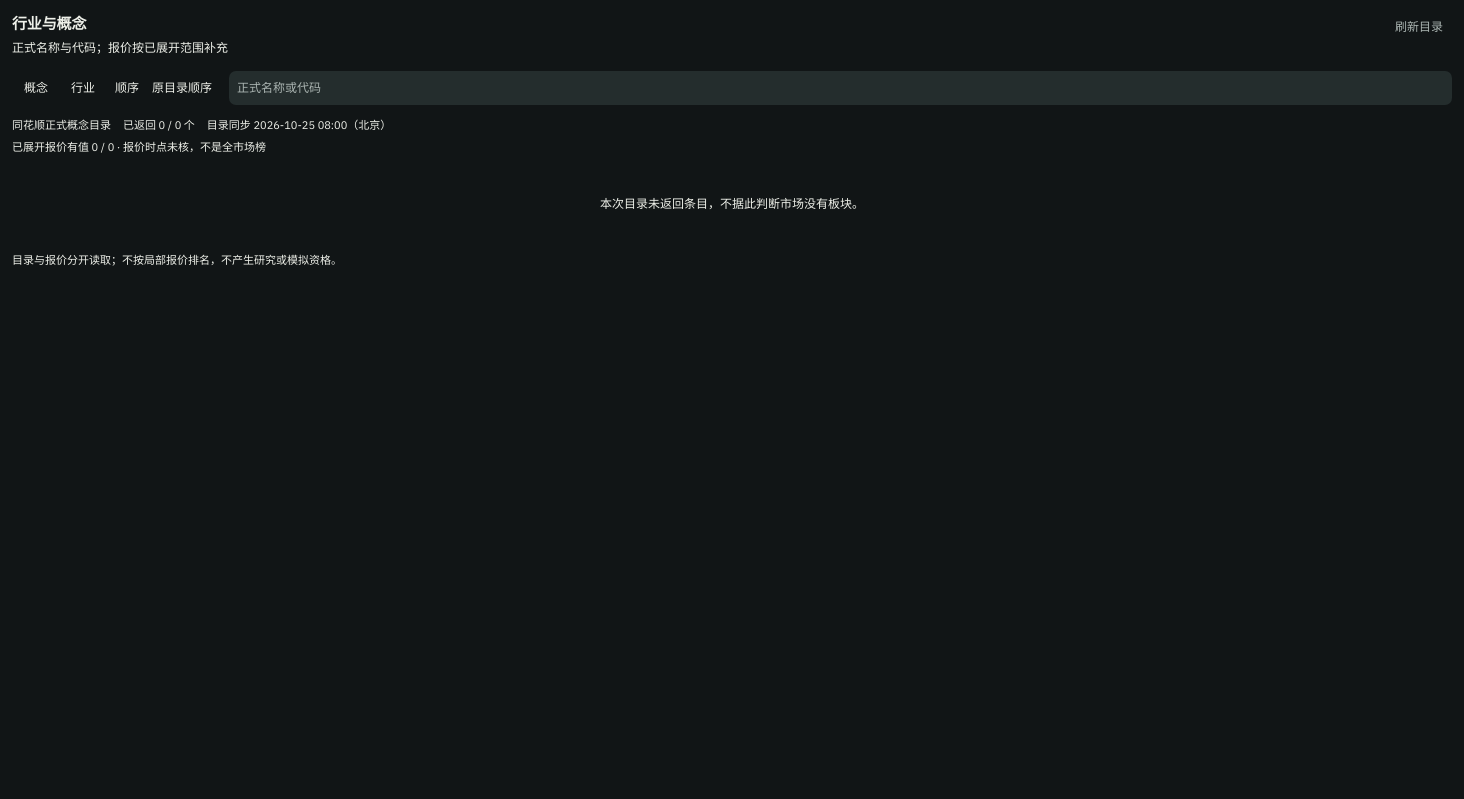
Test: 官方目录与可选报价独立读取 › 空目录不发报价；不可用报价即使附带数值也不展示为有效快照
Expected: the text "本次目录未返回条目，不据此判断市场没有板块。" is shown, [600,196,864,211]
Click the button "刷新目录" at (1419, 27), box [1386,12,1452,42]
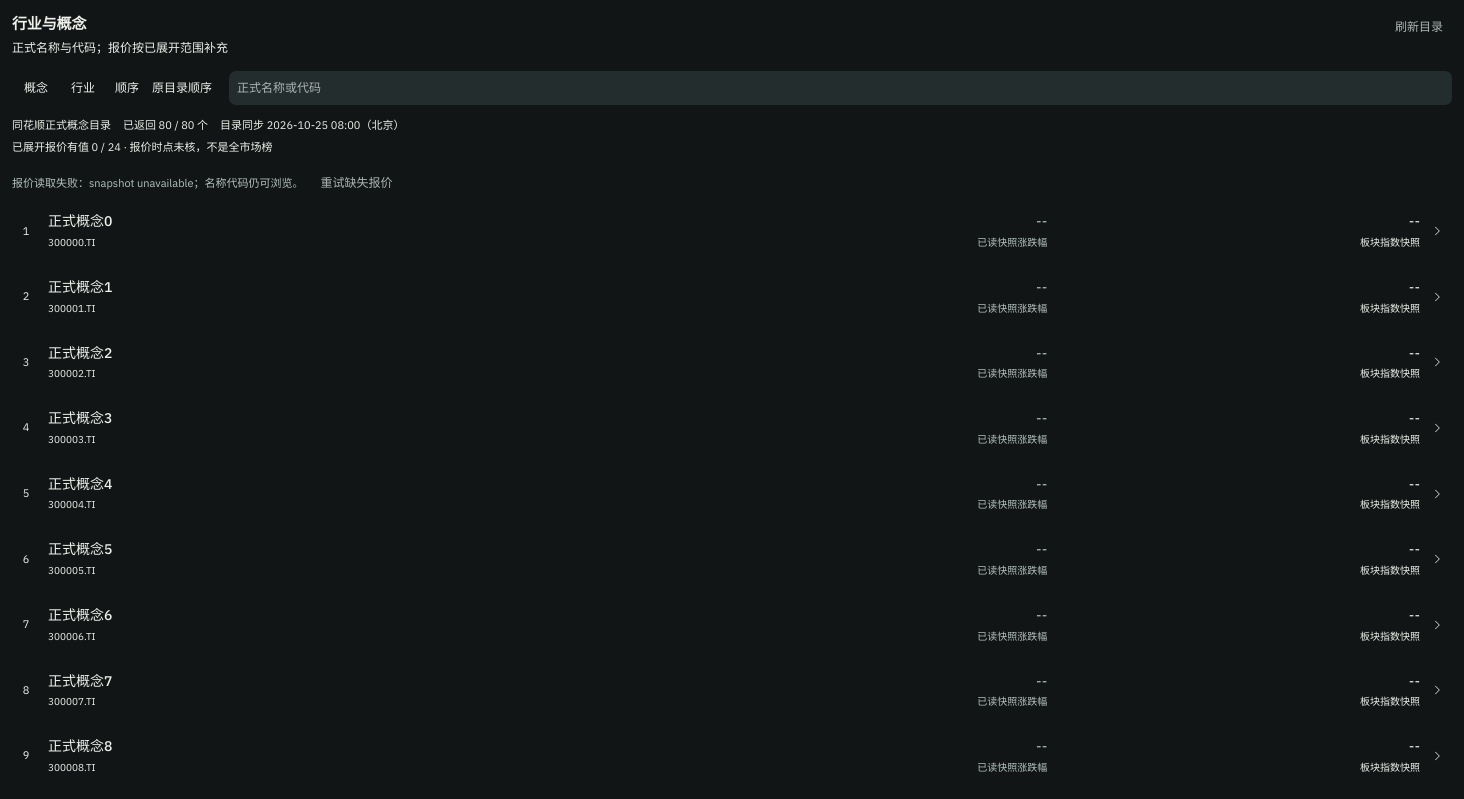
Expected: the text "报价读取失败：snapshot unavailable；名称代码仍可浏览。" is shown, [12,175,304,192]
Expected: the button with aria-label "查看正式概念0成分" is enabled, [12,208,1452,254]
